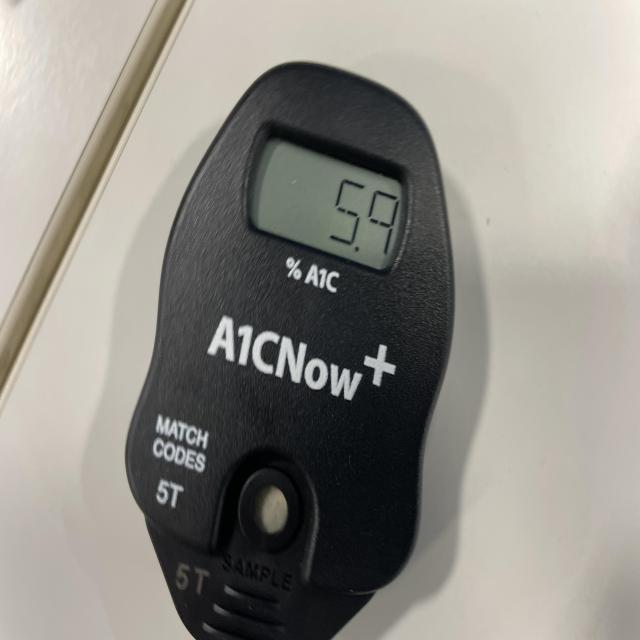hba1c: (123, 61, 457, 640)
